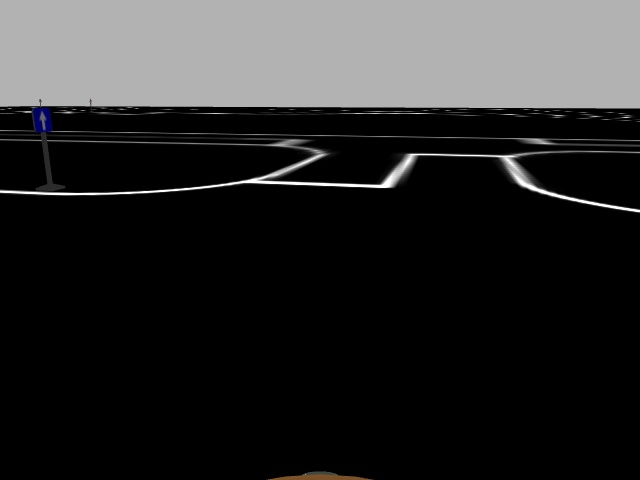oneway: (31, 106, 53, 137)
